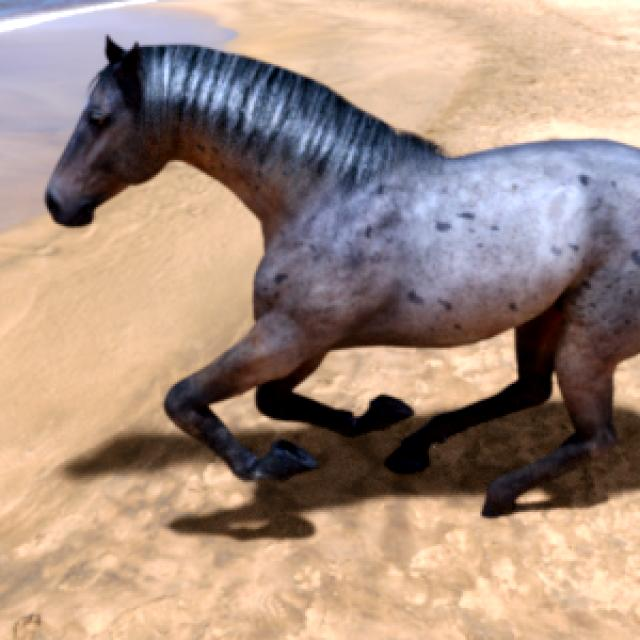horse: (46, 39, 640, 516)
